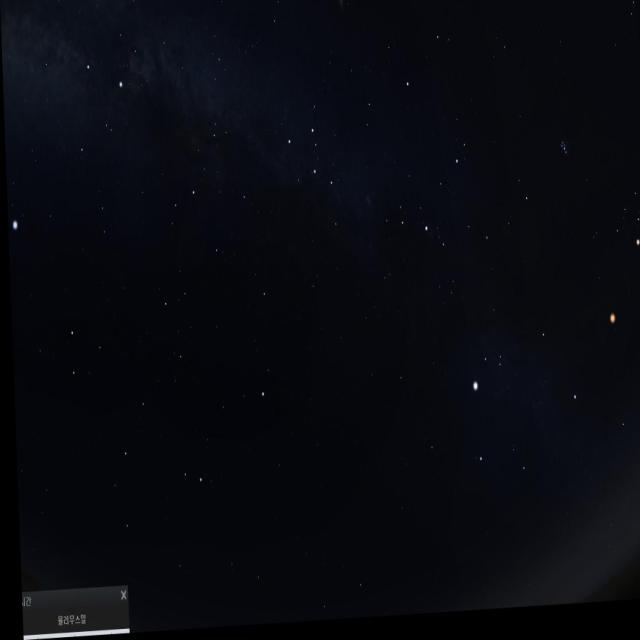cassiopeia: (275, 111, 350, 251)
pleiades: (554, 130, 578, 176)
